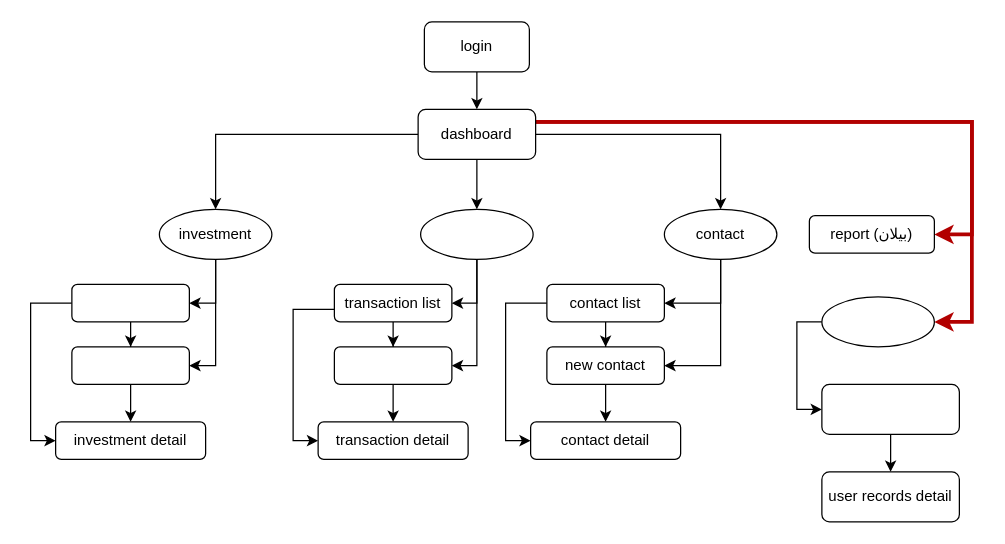
Image size: 1005x544. Some labels were removed from this diagram. Each missing label, with the centre of its shape:
"investment list" goes at [130,302].
"new investment contract" goes at [130,365].
"new transaction" goes at [392,365].
"transactions" goes at [476,233].
"user management" goes at [890,408].
"users" goes at [877,321].
